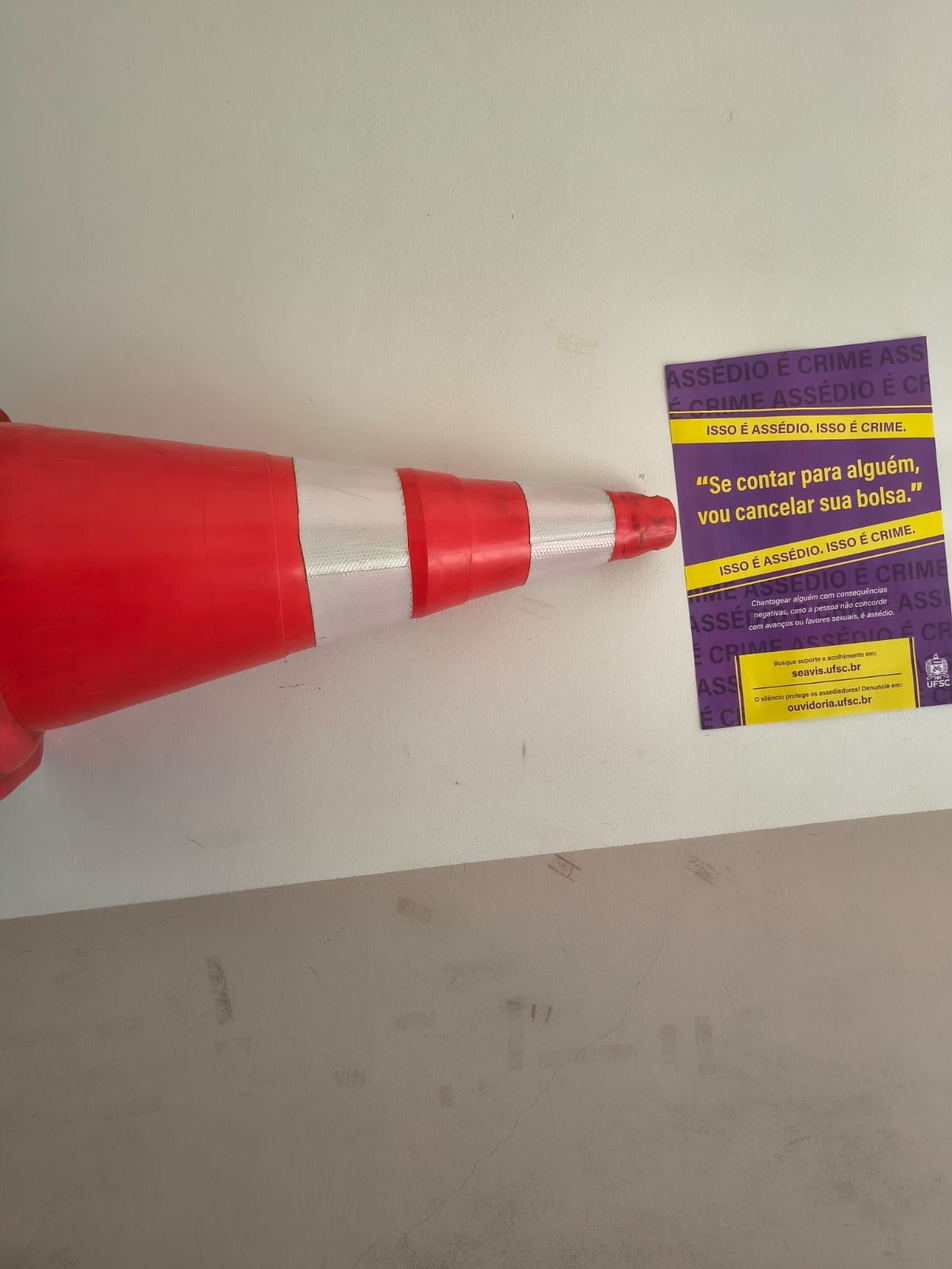cone: (5, 405, 673, 760)
